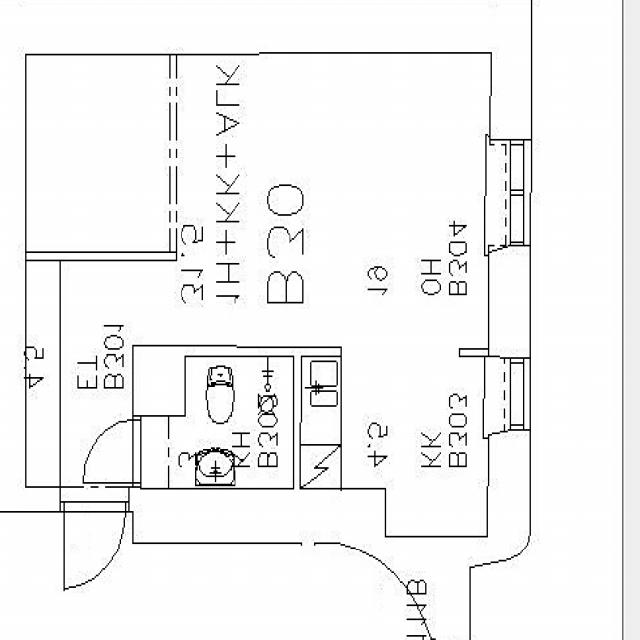door: (64, 487, 126, 589), (85, 420, 142, 481)
